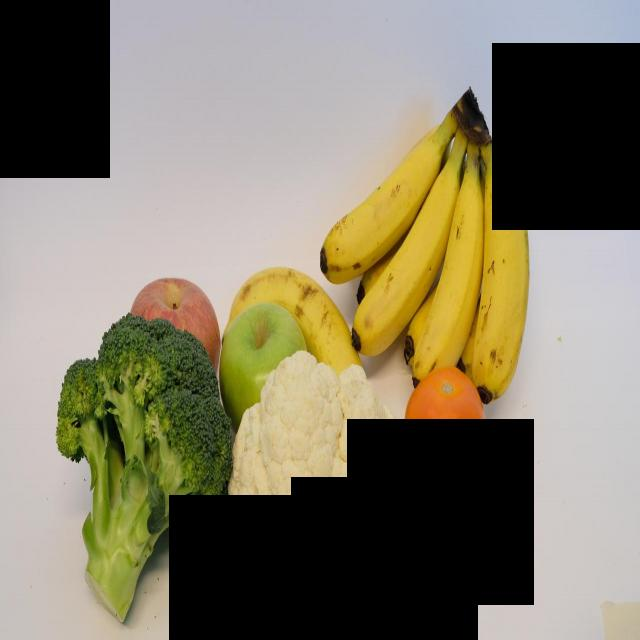apple: (129, 264, 225, 368), (219, 304, 305, 414)
banana: (319, 110, 440, 288), (357, 156, 455, 370), (412, 173, 479, 403), (235, 257, 362, 376), (479, 166, 527, 417)
broccoli: (50, 300, 232, 624)
cauliflower: (222, 353, 406, 610)
tomato: (396, 360, 488, 508)
